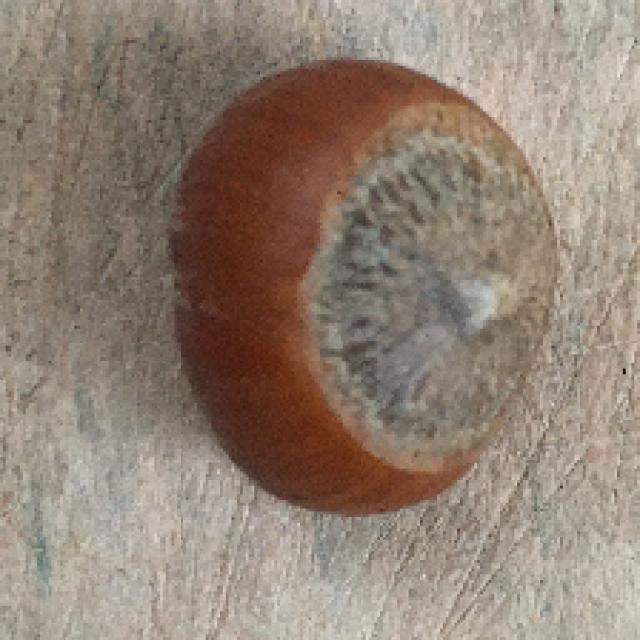damagedHazelnut: (160, 41, 568, 531)
